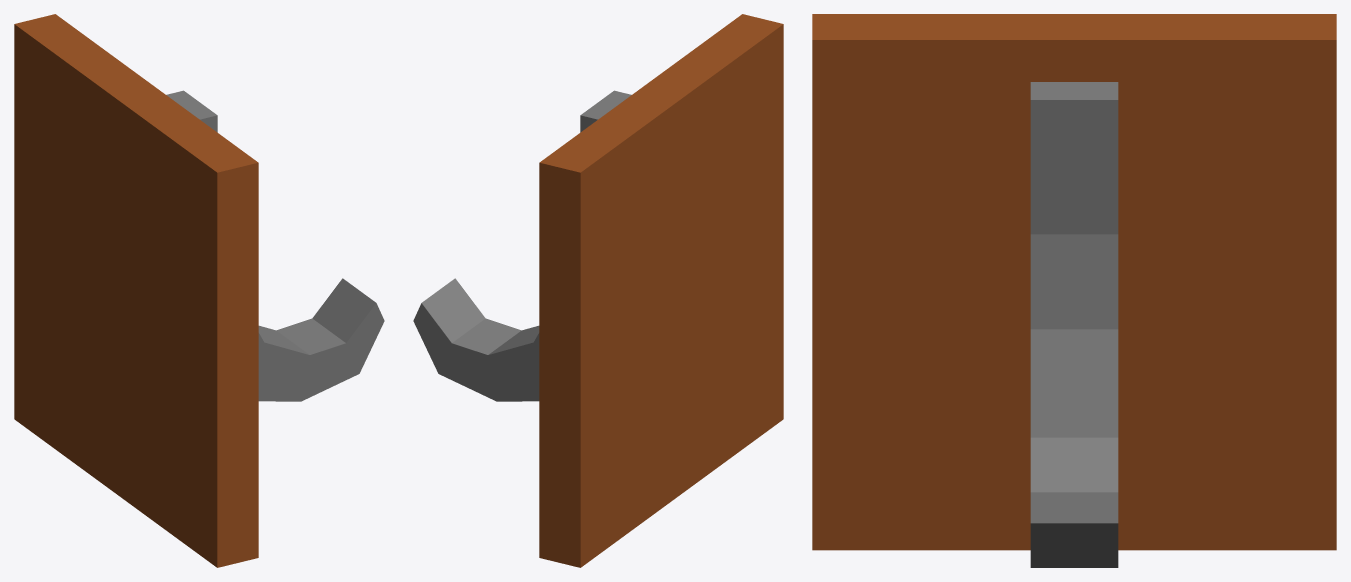
File: Hook.fbx
The picture shows the model from 3 angles, left to right: view 1: azimuth 30°, elevation 25°; view 2: azimuth 150°, elevation 25°; view 3: azimuth 270°, elevation 25°; orthographic projection. The views are drawn at different scales.
Visible parts, largest first — view 1: Hook; view 2: Hook; view 3: Hook.
Part boxes in pixels (box(x1,y1,x2,y2)): Hook: box(14, 14, 384, 567); Hook: box(413, 14, 783, 567); Hook: box(812, 14, 1336, 567).
Size of the model in its own units: 0.4624 by 0.6933 by 0.6457.
